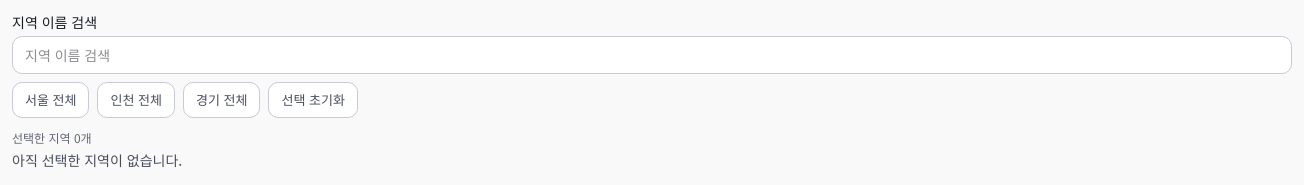
Test case: search › explains an empty offered set as uncalculable, not as a failed search
This screenshot has width=1304, height=185.
Focus the dropdown with test id "facility-cost-region-search" at (652, 55), box [12,36,1292,74]
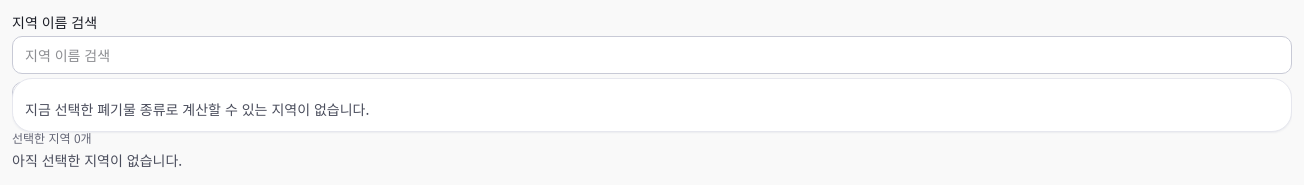
Expected: the text with test id "facility-cost-region-empty" shows "계산할 수 있는 지역이 없습니다", [25,99,369,119]
